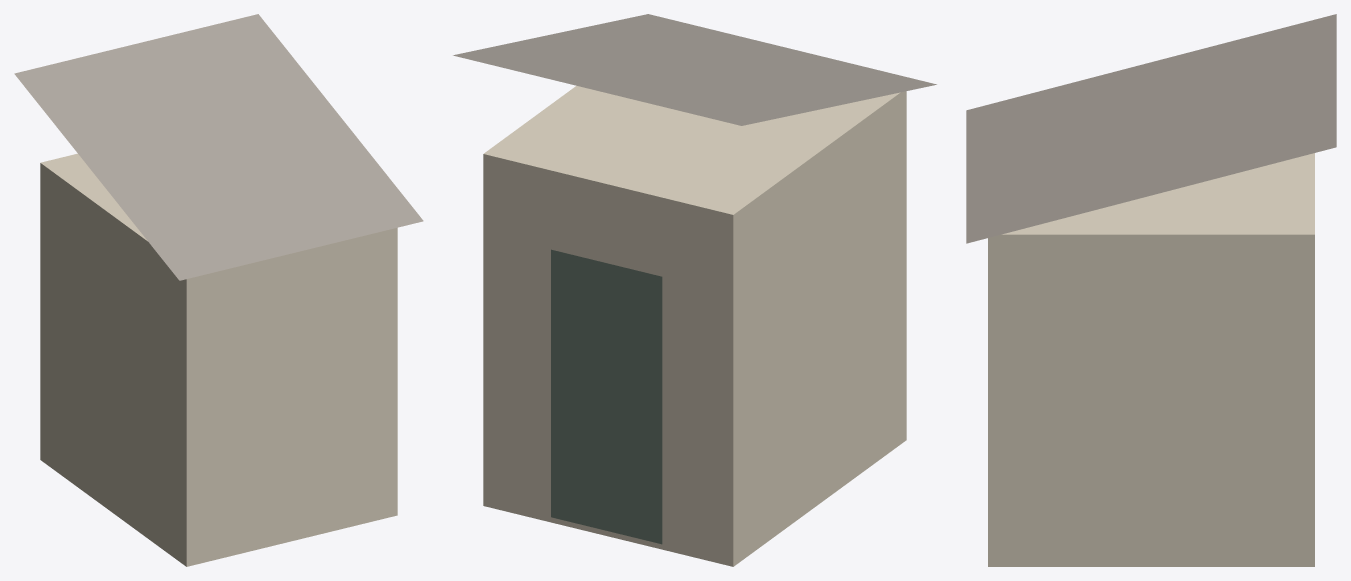
Rendered from recon_1835_north_a3_051__recommended_1835.glb.
3 views of the same model, side by side, from view 1: azimuth 30°, elevation 25°; view 2: azimuth 150°, elevation 25°; view 3: azimuth 270°, elevation 25° (orthographic). The views are drawn at different scales.
Visible parts, largest first — view 1: recon_1835_north_a3_051__recommended_1835; view 2: recon_1835_north_a3_051__recommended_1835; view 3: recon_1835_north_a3_051__recommended_1835.
Part boxes in pixels (<box>): recon_1835_north_a3_051__recommended_1835: <box>14,14,423,566</box>; recon_1835_north_a3_051__recommended_1835: <box>453,14,936,566</box>; recon_1835_north_a3_051__recommended_1835: <box>966,14,1336,566</box>.
Size of the model in its own units: 1.76 by 2.64 by 2.07.
